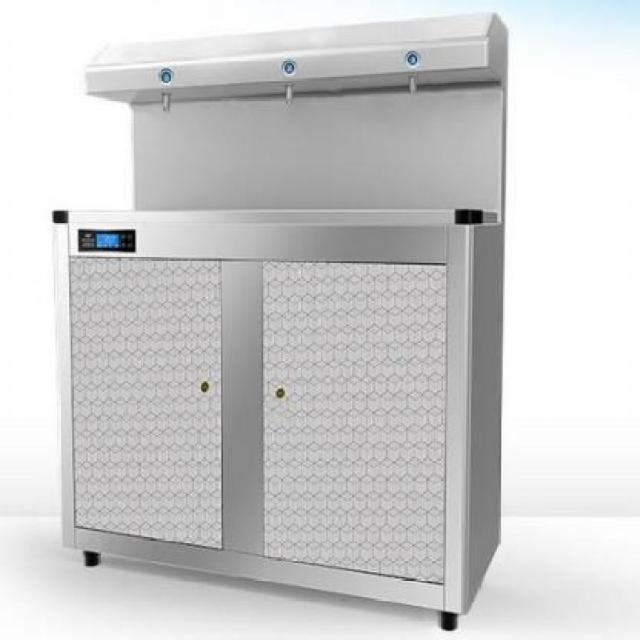cooler: (51, 5, 512, 636)
